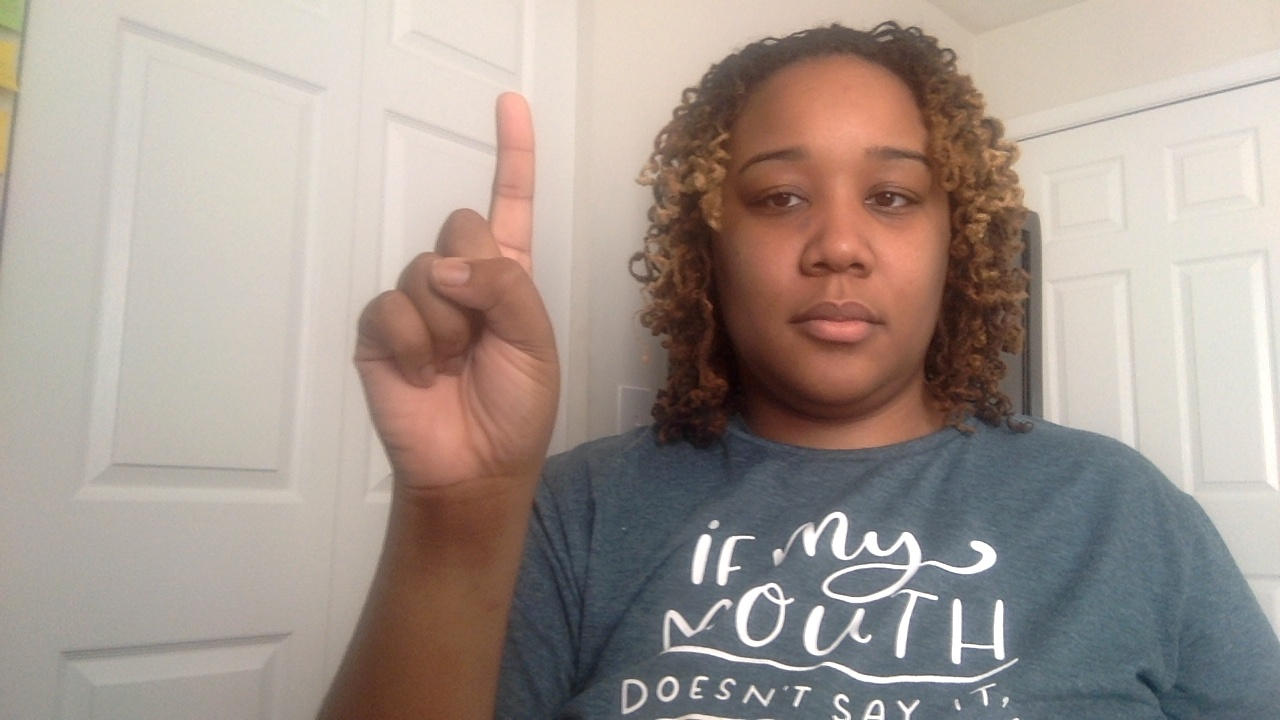up: (323, 70, 590, 720)
